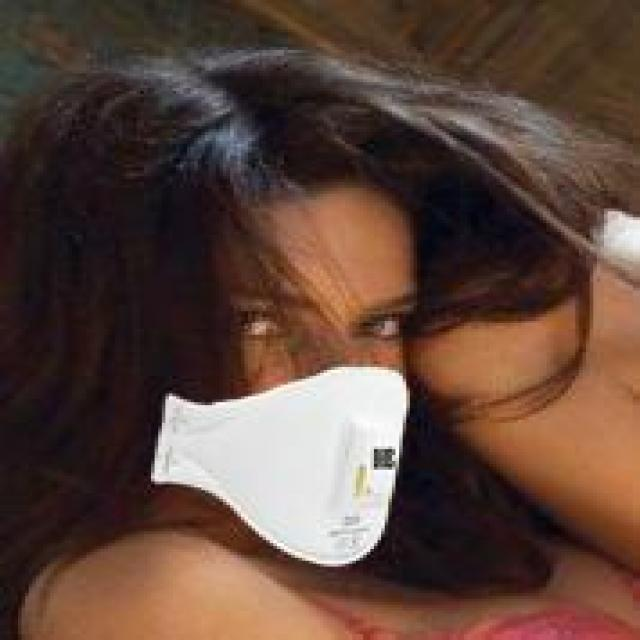mask: (83, 79, 485, 567)
